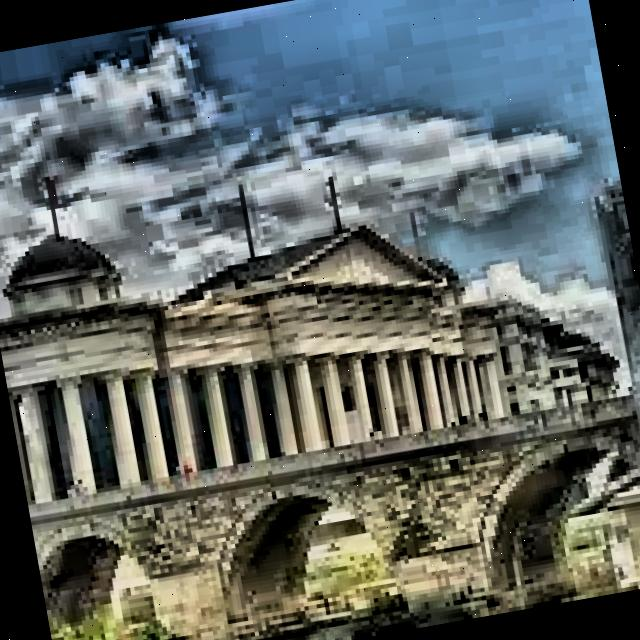stone bridge: (23, 370, 640, 640)
